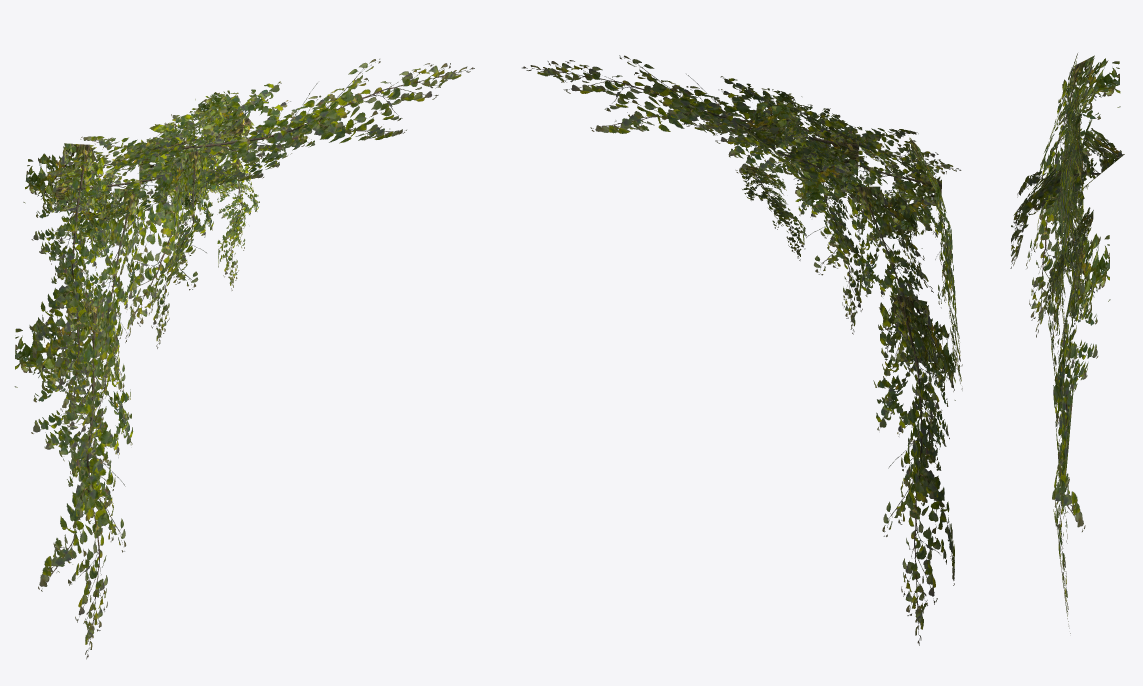
Rendered from ivyA.FBX.
3 views of the same model, side by side, from view 1: azimuth 30°, elevation 25°; view 2: azimuth 150°, elevation 25°; view 3: azimuth 270°, elevation 25° (orthographic). The views are drawn at different scales.
Visible parts, largest first — view 1: Ivy_corner_001; view 2: Ivy_corner_001; view 3: Ivy_corner_001.
Part boxes in pixels (x1,y1,x2,y2): Ivy_corner_001: (14, 59, 474, 659); Ivy_corner_001: (522, 55, 962, 645); Ivy_corner_001: (1010, 53, 1124, 633).
Size of the model in its own units: 5.24 by 5.98 by 1.09.
